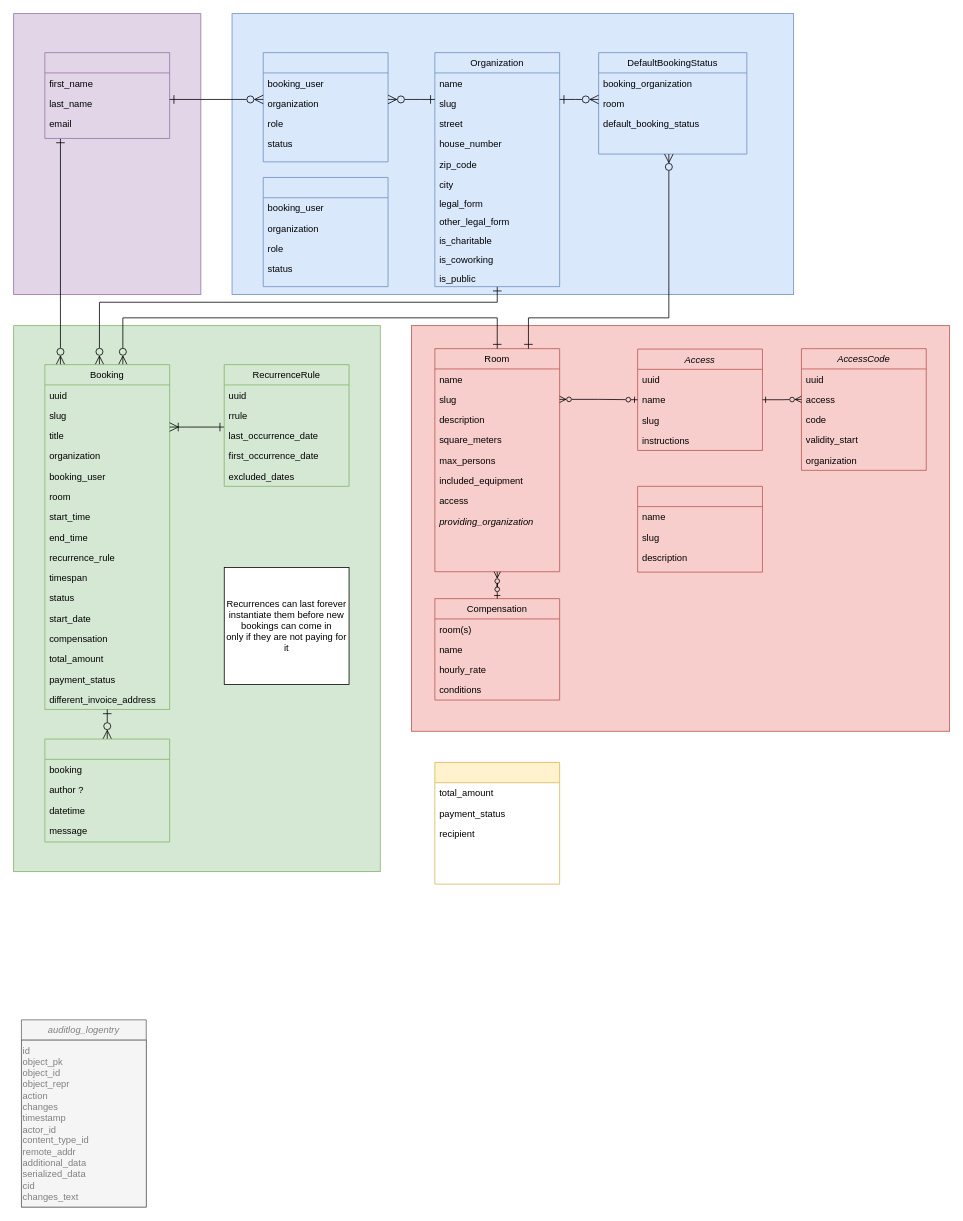
Image size: 963x1221. Some labels were removed from this diagram. The shapes that lost their labels are listed below. From the top down, each one's box as (x1, y1, x2, y2) in pixels, then its label:
(44, 52, 170, 138): User
(262, 52, 388, 162): BookingPermission
(262, 177, 388, 287): ManagePermission
(637, 486, 762, 572): BookableAsset
(44, 738, 170, 842): BookingMessage
(434, 762, 560, 884): Invoice
